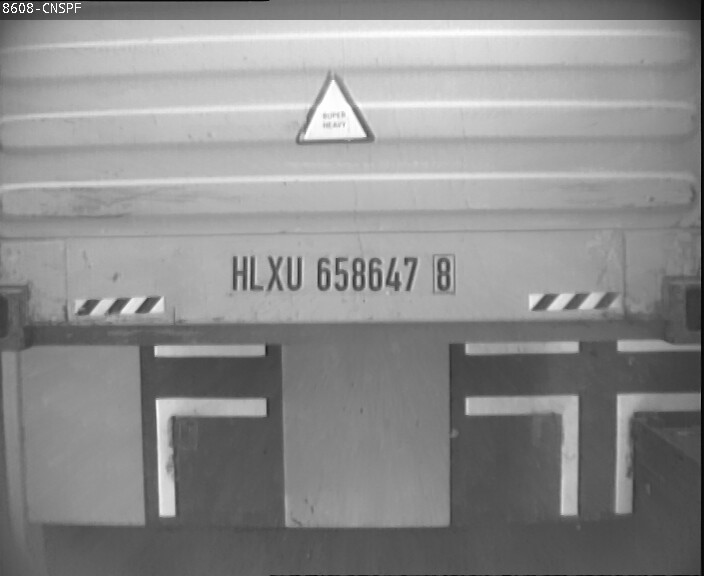groundmarker_1: (462, 394, 704, 516), (153, 346, 264, 520)
